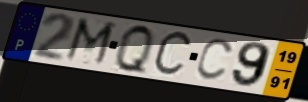2: (31, 12, 77, 64)
9: (231, 41, 275, 91)
C: (150, 29, 195, 79), (193, 38, 237, 83)
M: (61, 16, 119, 70)
Q: (113, 22, 156, 78)
